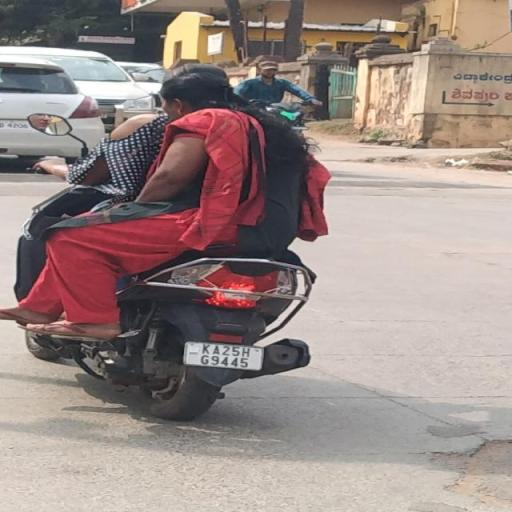bike: (6, 68, 336, 421)
numberplate: (187, 339, 266, 376)
withouthelmet: (168, 74, 229, 112)
